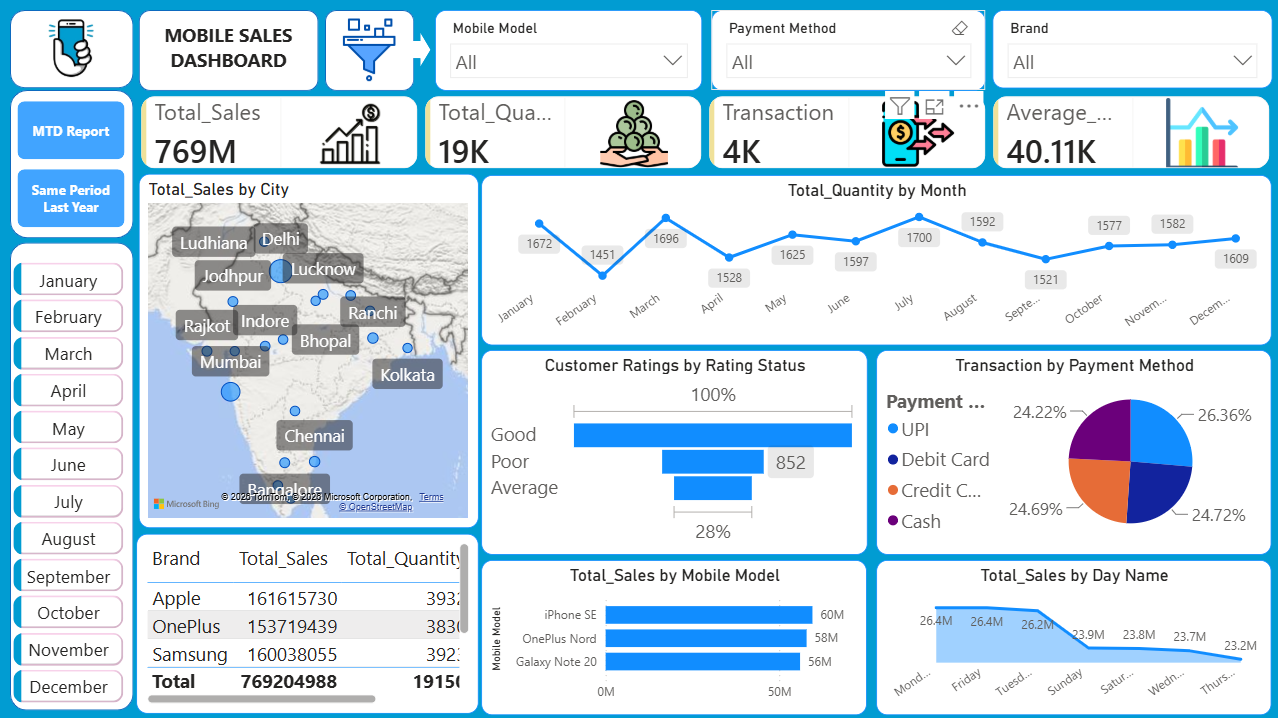

Layout of this report page (visuals, bound fields, positions):
{"tool":"powerbi","page":{"name":"Dashboard","canvas":[1280,720],"ordinal":0},"visuals":[{"type":"shape","box":[9.6,9.6,123.5,78.2],"z":0},{"type":"image","box":[17.8,9.6,107,74.1],"z":1000},{"type":"shape","box":[9.6,90.6,123.5,148.2],"z":2000},{"type":"shape","box":[9.6,242.9,123.5,467.9],"z":3000},{"type":"advancedSlicerVisual","fields":{"Values":["Custom_Calendar.Date.Variation.Date Hierarchy.Month"]},"box":[12.3,262.1,112.5,448.7],"z":4000},{"type":"cardVisual","fields":{"Data":["Sales Data.Total_Sales","Sales Data.Total_Quantity","Sales Data.Transaction","Sales Data.Average_Price"]},"box":[133.1,87.8,1147.2,90.6],"z":5000},{"type":"slicer","fields":{"Values":["Sales Data.Mobile Model"]},"box":[435,9.6,267.6,81],"z":6000},{"type":"slicer","fields":{"Values":["Sales Data.Payment Method"]},"box":[710.8,9.6,274.4,81],"z":7000},{"type":"slicer","fields":{"Values":["Sales Data.Brand"]},"box":[992.1,9.6,279.9,78.2],"z":8000},{"type":"shape","box":[325.2,9.6,89.2,81],"z":9000},{"type":"image","box":[329.3,17.8,81,64.5],"z":10000},{"type":"shape","box":[410.3,32.9,20.6,34.3],"z":11000},{"type":"shape","box":[138.6,9.6,179.8,81],"z":12000},{"type":"textbox","box":[156.4,17.8,144.1,64.5],"z":13000},{"type":"map","fields":{"Category":["Sales Data.City"],"Size":["Sales Data.Total_Sales"]},"box":[138.7,173.7,340.2,354.7],"z":14000},{"type":"lineChart","fields":{"Category":["Custom_Calendar.Date.Variation.Date Hierarchy.Month"],"Y":["Sales Data.Total_Quantity"]},"box":[481.4,174.9,790.2,170.1],"z":15000},{"type":"funnel","title":"Customer Ratings by Rating Status","fields":{"Y":["CountNonNull(Sales Data.Customer Ratings)"],"Category":["Sales Data.Rating Status"]},"box":[481.4,349.9,386.1,205.1],"z":16000},{"type":"pieChart","fields":{"Y":["Sales Data.Transaction"],"Category":["Sales Data.Payment Method"]},"box":[876.8,349.9,395.2,204.5],"z":17000},{"type":"clusteredBarChart","fields":{"Y":["Sales Data.Total_Sales"],"Category":["Sales Data.Mobile Model"]},"box":[481.6,559.9,385.6,155.1],"z":18000},{"type":"areaChart","fields":{"Y":["Sales Data.Total_Sales"],"Category":["Custom_Calendar.Day Name"]},"box":[876.8,559.9,395.2,155.1],"z":19000},{"type":"tableEx","fields":{"Values":["Sales Data.Brand","Sales Data.Total_Sales","Sales Data.Total_Quantity","Sales Data.Transaction"]},"box":[136.3,533.2,342.6,179.8],"z":20000},{"type":"pageNavigator","box":[18.1,101.3,107.4,126.7],"z":20001}]}

Visuals, with their boxes in screenshot pixels (x1, y1, x2, y2), scaled from the page's 1280x720 canvas onto the 1278x718 screenshot:
shape: bbox=[10, 10, 133, 88]
image: bbox=[18, 10, 125, 83]
shape: bbox=[10, 90, 133, 238]
shape: bbox=[10, 242, 133, 709]
advancedSlicerVisual - Custom_Calendar.Date.Variation.Date Hierarchy.Month: bbox=[12, 261, 125, 709]
cardVisual - Sales Data.Total_Sales x Sales Data.Total_Quantity: bbox=[133, 88, 1277, 178]
slicer - Sales Data.Mobile Model: bbox=[434, 10, 702, 90]
slicer - Sales Data.Payment Method: bbox=[710, 10, 984, 90]
slicer - Sales Data.Brand: bbox=[991, 10, 1270, 88]
shape: bbox=[325, 10, 414, 90]
image: bbox=[329, 18, 410, 82]
shape: bbox=[410, 33, 430, 67]
shape: bbox=[138, 10, 318, 90]
textbox: bbox=[156, 18, 300, 82]
map - Sales Data.City x Sales Data.Total_Sales: bbox=[138, 173, 478, 527]
lineChart - Custom_Calendar.Date.Variation.Date Hierarchy.Month x Sales Data.Total_Quantity: bbox=[481, 174, 1270, 344]
"Customer Ratings by Rating Status" funnel: bbox=[481, 349, 866, 553]
pieChart - Sales Data.Transaction x Sales Data.Payment Method: bbox=[875, 349, 1270, 553]
clusteredBarChart - Sales Data.Total_Sales x Sales Data.Mobile Model: bbox=[481, 558, 866, 713]
areaChart - Sales Data.Total_Sales x Custom_Calendar.Day Name: bbox=[875, 558, 1270, 713]
tableEx - Sales Data.Brand x Sales Data.Total_Sales: bbox=[136, 532, 478, 711]
pageNavigator: bbox=[18, 101, 125, 227]
